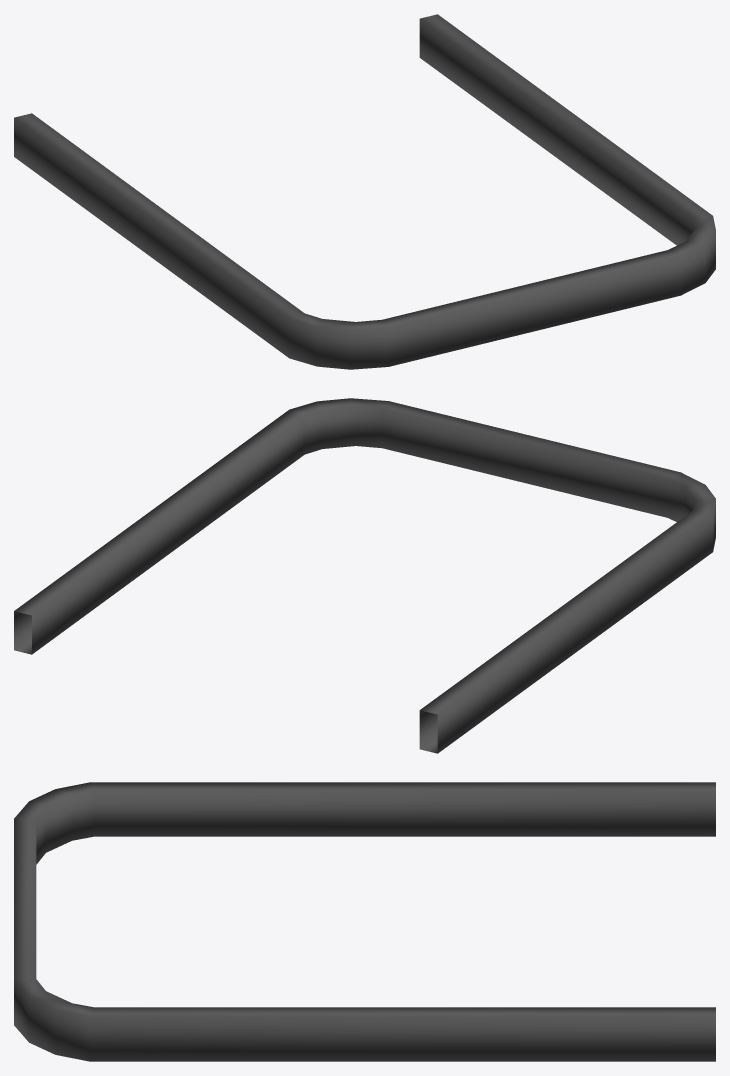
File: AlcoholDisp_1B.fbx
3 views of the same model, one above another, from view 1: azimuth 30°, elevation 25°; view 2: azimuth 150°, elevation 25°; view 3: azimuth 270°, elevation 25° (orthographic). The views are drawn at different scales.
Parts seen in each view (by area): view 1: AlcoholDisp_1B; view 2: AlcoholDisp_1B; view 3: AlcoholDisp_1B.
Part boxes in pixels (<box>): AlcoholDisp_1B: <box>14,14,715,369</box>; AlcoholDisp_1B: <box>14,398,715,753</box>; AlcoholDisp_1B: <box>14,782,715,1061</box>.
Bounding box in the file's own units: 20.05 × 1.77 × 25.31.
